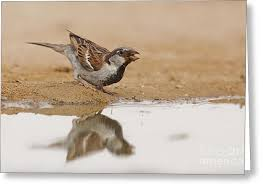home_sparrow: (20, 27, 145, 92)
